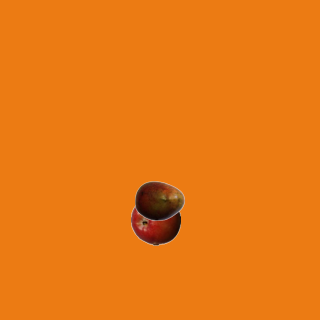Apple Braeburn: (130, 195, 180, 245)
Mango Red: (134, 175, 184, 225)
